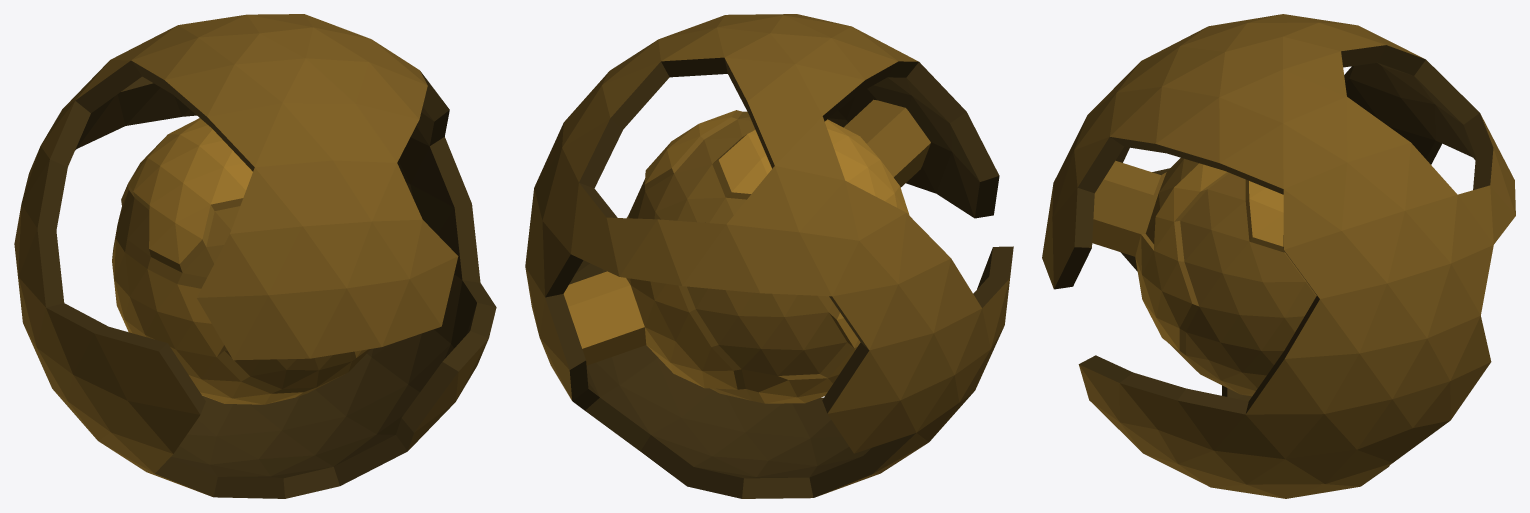
Rendered from lowpoly_planet.glb.
3 views of the same model, side by side, from view 1: azimuth 30°, elevation 25°; view 2: azimuth 150°, elevation 25°; view 3: azimuth 270°, elevation 25° (orthographic).
Visible parts, largest first — view 1: Icosphere.001, Icosphere; view 2: Icosphere.001, Icosphere; view 3: Icosphere.001, Icosphere.
Part boxes in pixels (x1=…): Icosphere.001: x1=14, y1=14, x2=496, y2=498; Icosphere: x1=112, y1=118, x2=370, y2=404; Icosphere.001: x1=525, y1=14, x2=1013, y2=498; Icosphere: x1=563, y1=99, x2=930, y2=403; Icosphere.001: x1=1042, y1=14, x2=1515, y2=498; Icosphere: x1=1092, y1=158, x2=1316, y2=396.
Bounding box in the file's own units: 809 × 809 × 790.
Materials: 1 (1 with a texture image).
